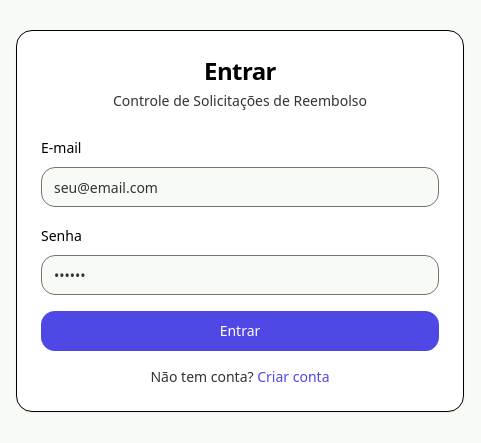
Test case: LoginPage › shows validation error for password shorter than 6 characters
Type "user@test.com" into the field labelled "E-mail" at (240, 187), box [41,167,439,207]
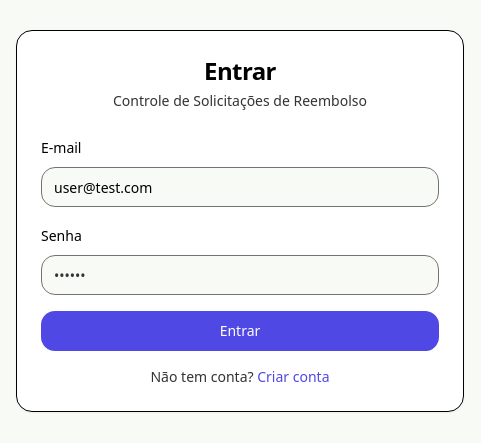
Type "123" into the password field labelled "Senha" at (240, 275), box [41,255,439,295]
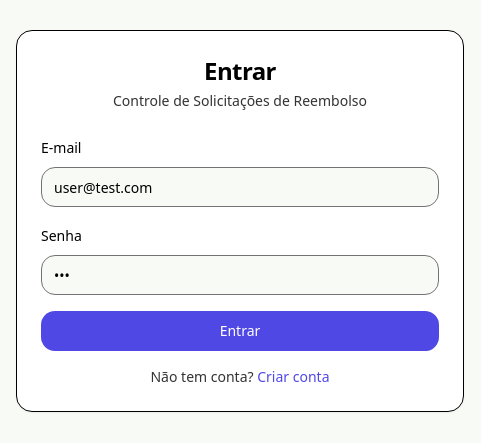
Click the button "Entrar" at (240, 331), box [41,311,439,351]
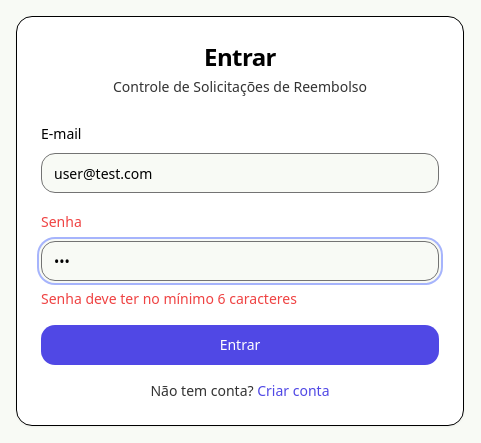
Result: the text "Senha deve ter no mínimo 6 caracteres" is shown at [41,289,297,308]
